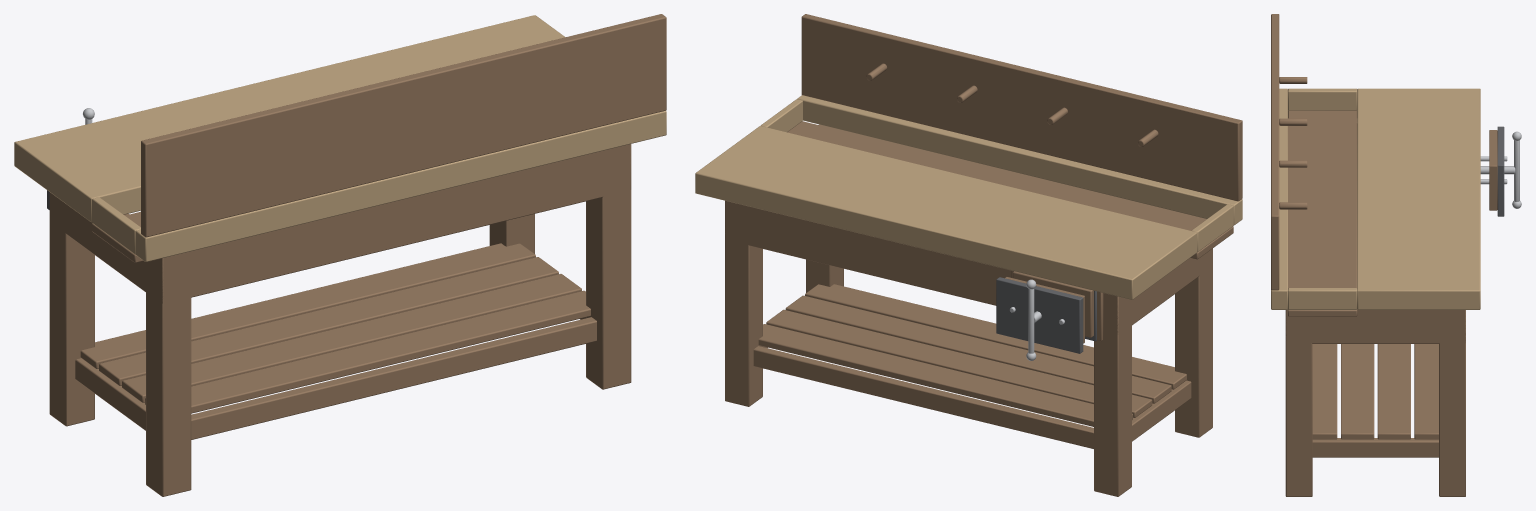
Rendered from workbench.glb.
The picture shows the model from 3 angles, left to right: view 1: azimuth 30°, elevation 25°; view 2: azimuth 150°, elevation 25°; view 3: azimuth 270°, elevation 25°; orthographic projection. The views are drawn at different scales.
Parts seen in each view (by area): view 1: Workbench; view 2: Workbench, WorkbenchViceJaw; view 3: Workbench, WorkbenchViceJaw.
Part boxes in pixels (box(x1,y1,x2,y2)): Workbench: box(14, 14, 666, 496); Workbench: box(695, 14, 1242, 496); WorkbenchViceJaw: box(996, 277, 1084, 360); Workbench: box(1271, 14, 1480, 496); WorkbenchViceJaw: box(1480, 126, 1521, 216).
Bounding box in the file's own units: 1.28 × 0.8594 × 0.67.
